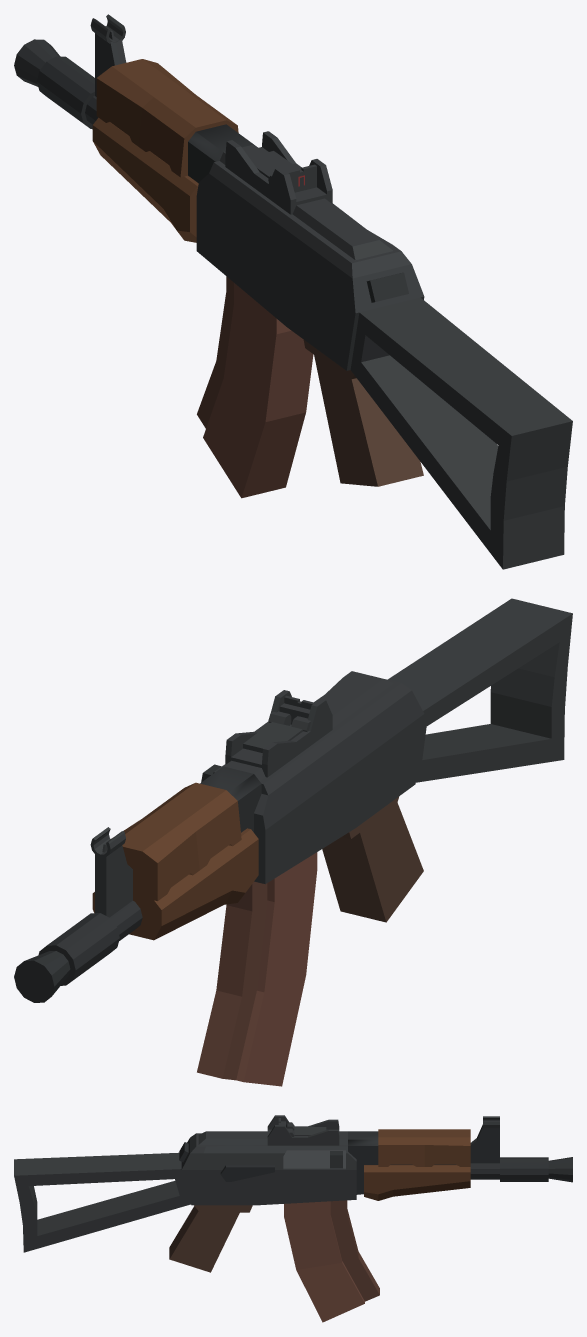
Rendered from AKS-74U.fbx.
3 renders of one model, top to bottom at view 1: azimuth 30°, elevation 25°; view 2: azimuth 150°, elevation 25°; view 3: azimuth 270°, elevation 25°, orthographic. The views are drawn at different scales.
Visible parts, largest first — view 1: Gun, Magazine, Sight; view 2: Gun, Magazine, Sight; view 3: Gun, Magazine, Sight.
Boxes of the visible parts, box(x1,y1,x2,y2) form: Gun: box(14, 14, 572, 569); Magazine: box(197, 276, 313, 498); Sight: box(225, 131, 332, 214); Gun: box(14, 598, 572, 1002); Magazine: box(197, 852, 317, 1086); Sight: box(225, 690, 332, 777); Gun: box(14, 1116, 572, 1272); Magazine: box(284, 1200, 379, 1322); Sight: box(267, 1115, 339, 1145).
Bounding box in the file's own units: 515 × 2244 × 5752.
